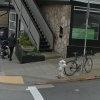bicycles: (64, 53, 94, 76)
